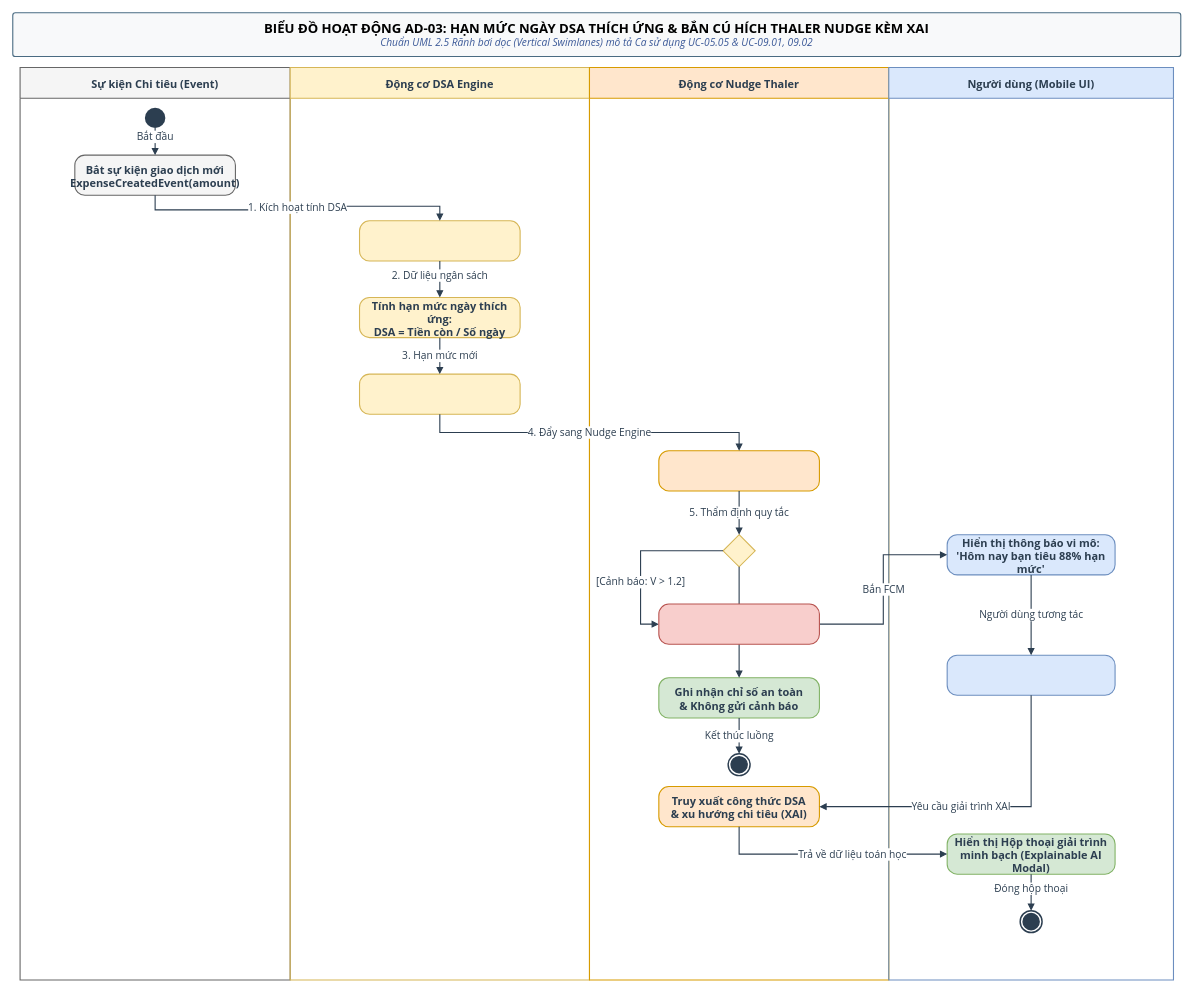
The diagram is 1194 pixels wide and 994 high, and some of its shapes have lost their labels. The shapes that lost their labels are listed below. From the top down, each one's centre as x and y in pixels, then its label:
At pixel 439 240: "Truy vấn ngân sách linh hoạt & số ngày còn lại trong tháng".
At pixel 439 393: "Tính tốc độ tiêu tiền: V = Đã tiêu hôm nay / DSA".
At pixel 739 470: "Đánh giá quy tắc Cú hích: V > 1.2 hoặc Chi tiêu > 85% DSA".
At pixel 739 623: "Tạo bản ghi Nudge (ACTIVE) & Bắn Push Notification FCM".
At pixel 1030 675: "Chạm vào thông báo & bấm: 'Tại sao tôi nhận lời khuyên này?'".
